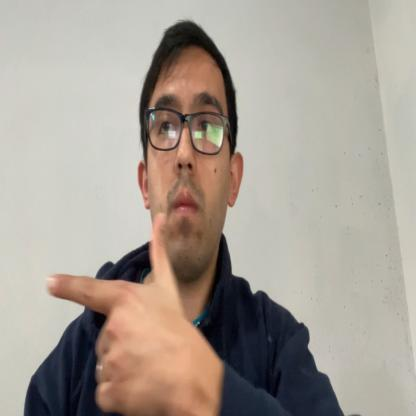G: (47, 212, 184, 415)
